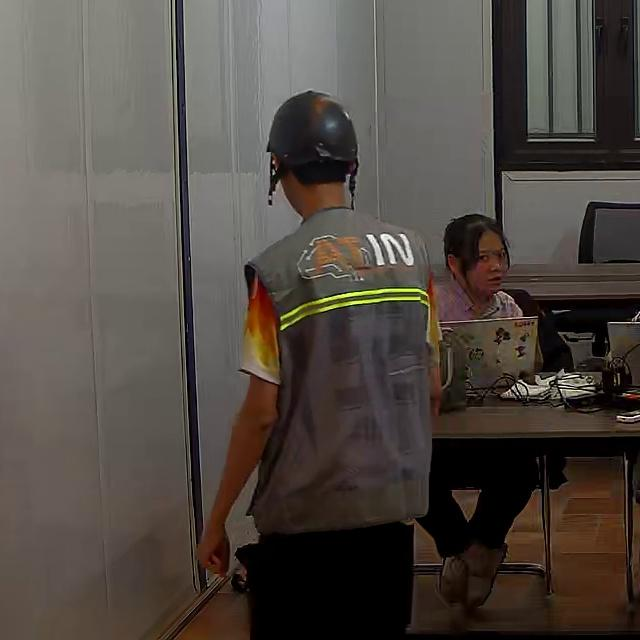helmet: (266, 89, 360, 198)
no_helmet: (442, 213, 510, 277)
none: (433, 279, 520, 325)
vest: (251, 222, 431, 531)
